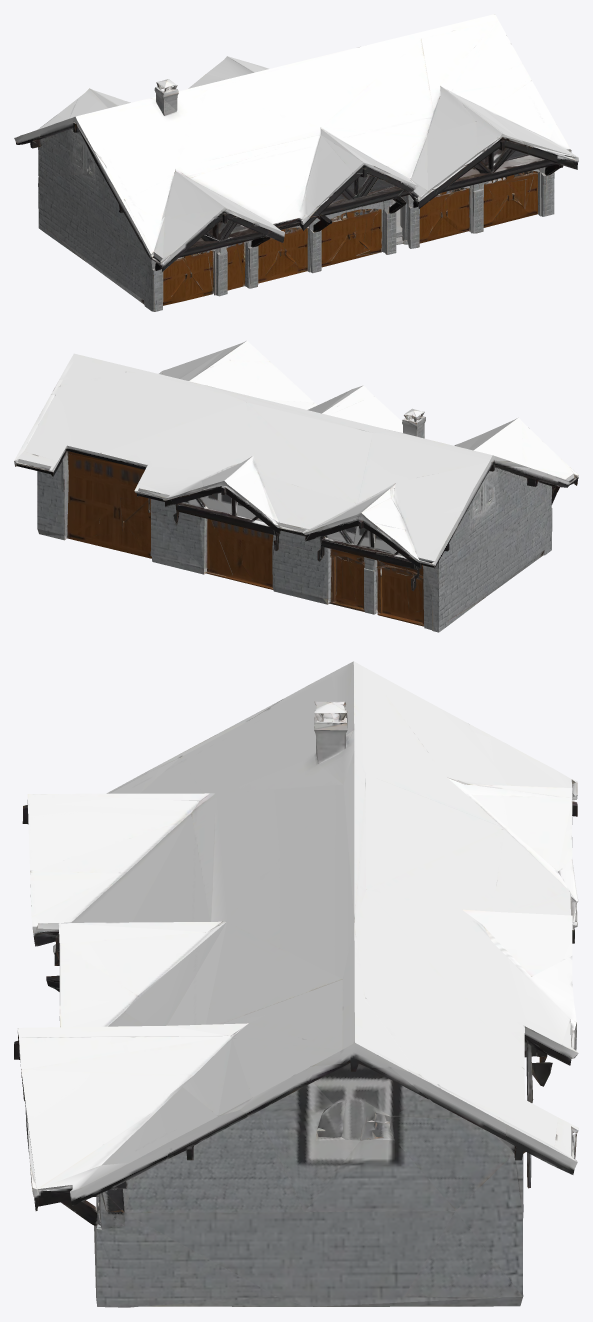
The model's file is garages.glb.
3 views of the same model, one above another, from view 1: azimuth 30°, elevation 25°; view 2: azimuth 150°, elevation 25°; view 3: azimuth 270°, elevation 25° (orthographic). The views are drawn at different scales.
Size of the model in its own units: 1.9 by 0.7168 by 1.18.
1 material, 1 textured.
